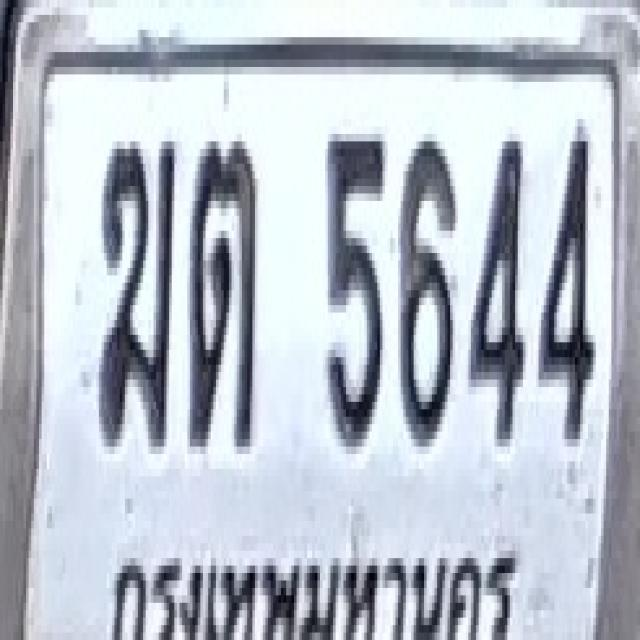-: (98, 130, 176, 443), (188, 134, 258, 446)
4: (538, 123, 594, 443), (467, 130, 524, 443)
5: (325, 126, 385, 446)
6: (398, 134, 455, 446)
